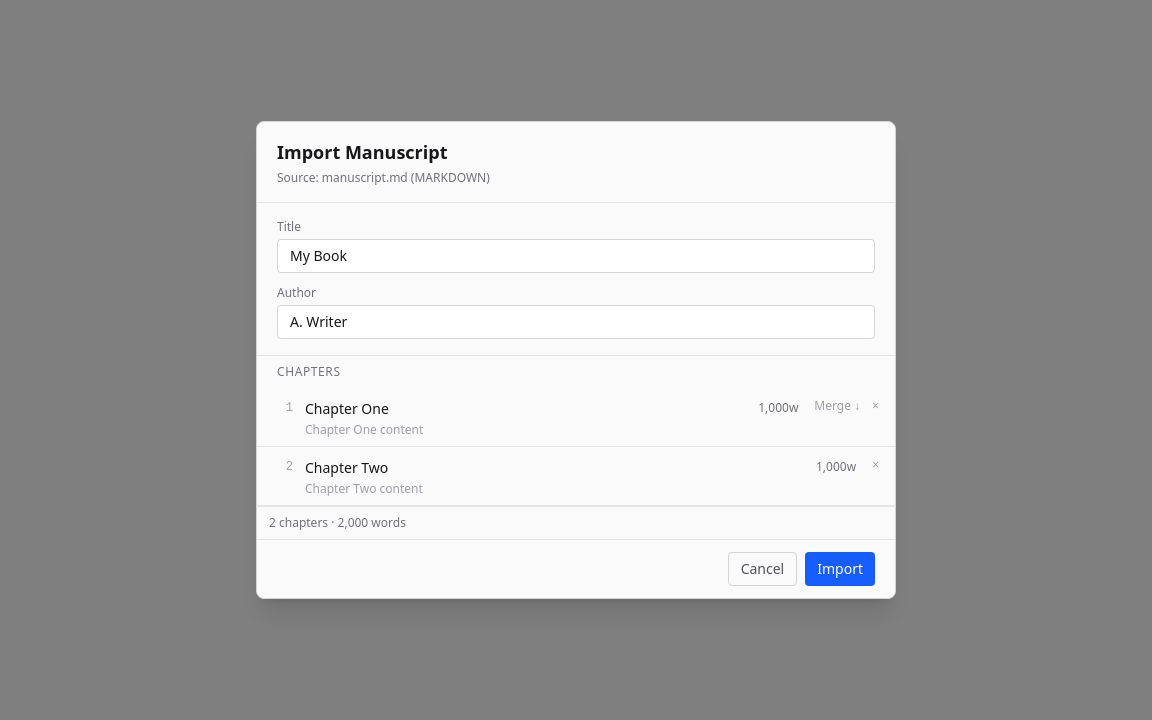
Scenario: ImportWizard › commits the preview and shows the success summary
Click the button "Import".
click(840, 569)  # box [805, 552, 875, 586]
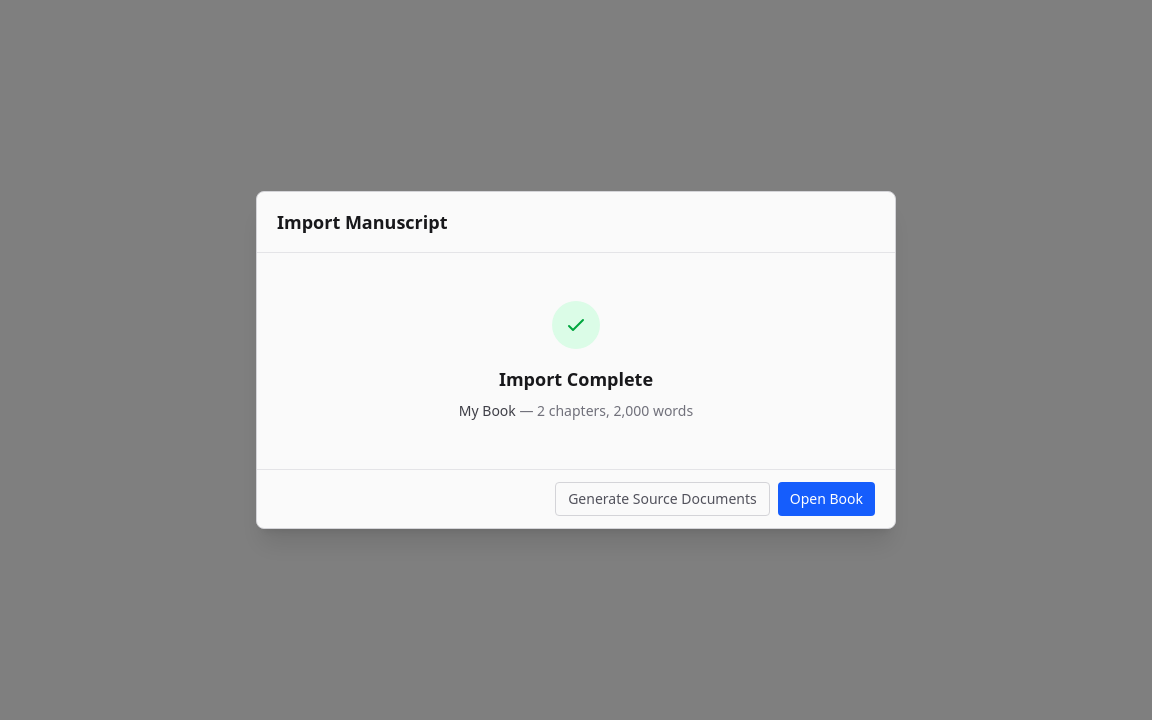
Expected: the heading "Import Complete" is shown, [499, 365, 653, 393]
Expected: the text "My Book — 2 chapters, 2,000 words" is shown, [459, 401, 693, 421]
